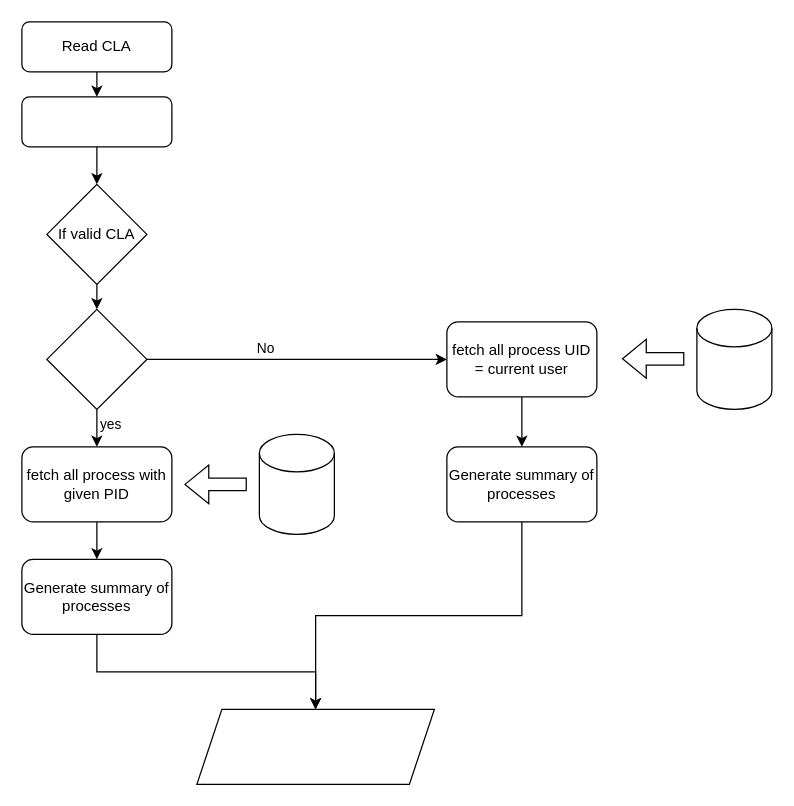
The diagram is 794 pixels wide and 806 high, and some of its shapes have lost their labels. The shapes that lost their labels are listed below. From the top down, each one's centre as x and y in pixels, then its label:
At (96,121): "Parse CLA".
At (96,358): "If pid given".
At (315,746): "Output tables based on CLAs".
